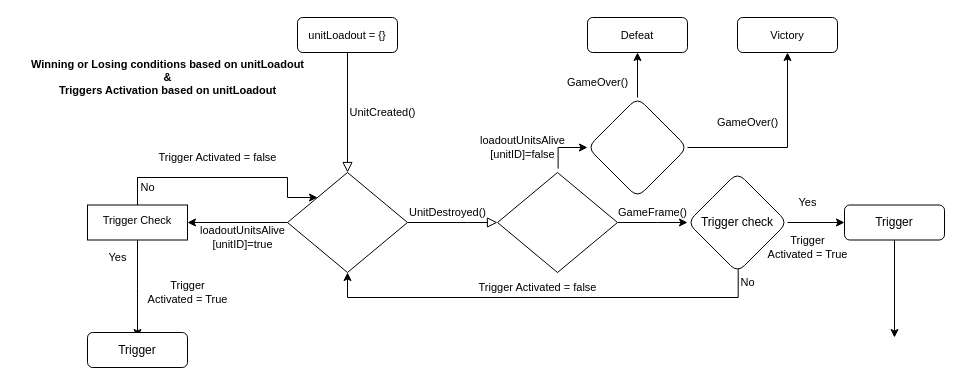
Image size: 962x385. Some labels were removed from this diagram. The shapes that lost their labels are listed below. From the top down, each one's box as (x1, y1, x2, y2) in pixels, then its label:
(586, 96, 688, 198): Win / Lose
(286, 172, 408, 272): loadoutUnitsAlive = {}
(496, 172, 618, 272): Objective Check
